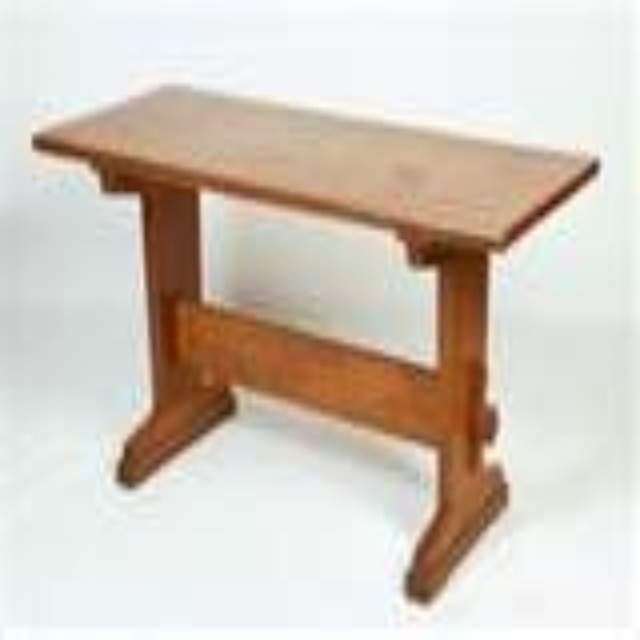obstacle: (32, 91, 596, 598)
